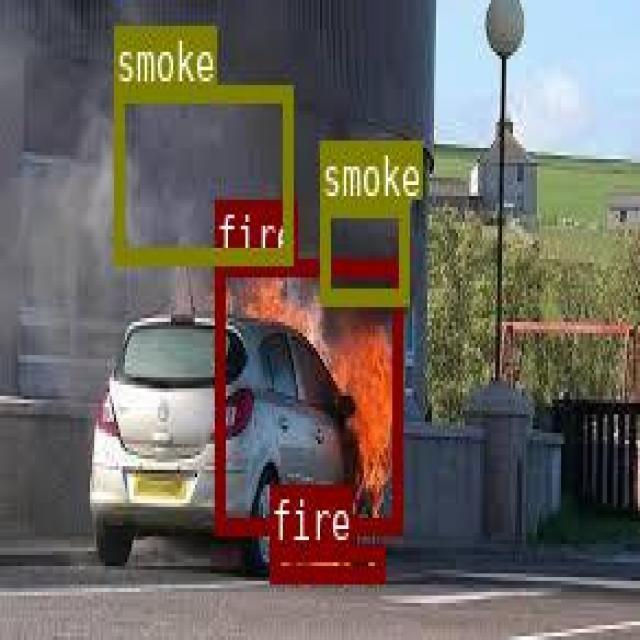fire: (214, 257, 399, 531), (268, 541, 383, 580)
smoke: (114, 83, 291, 260), (319, 198, 406, 301)
